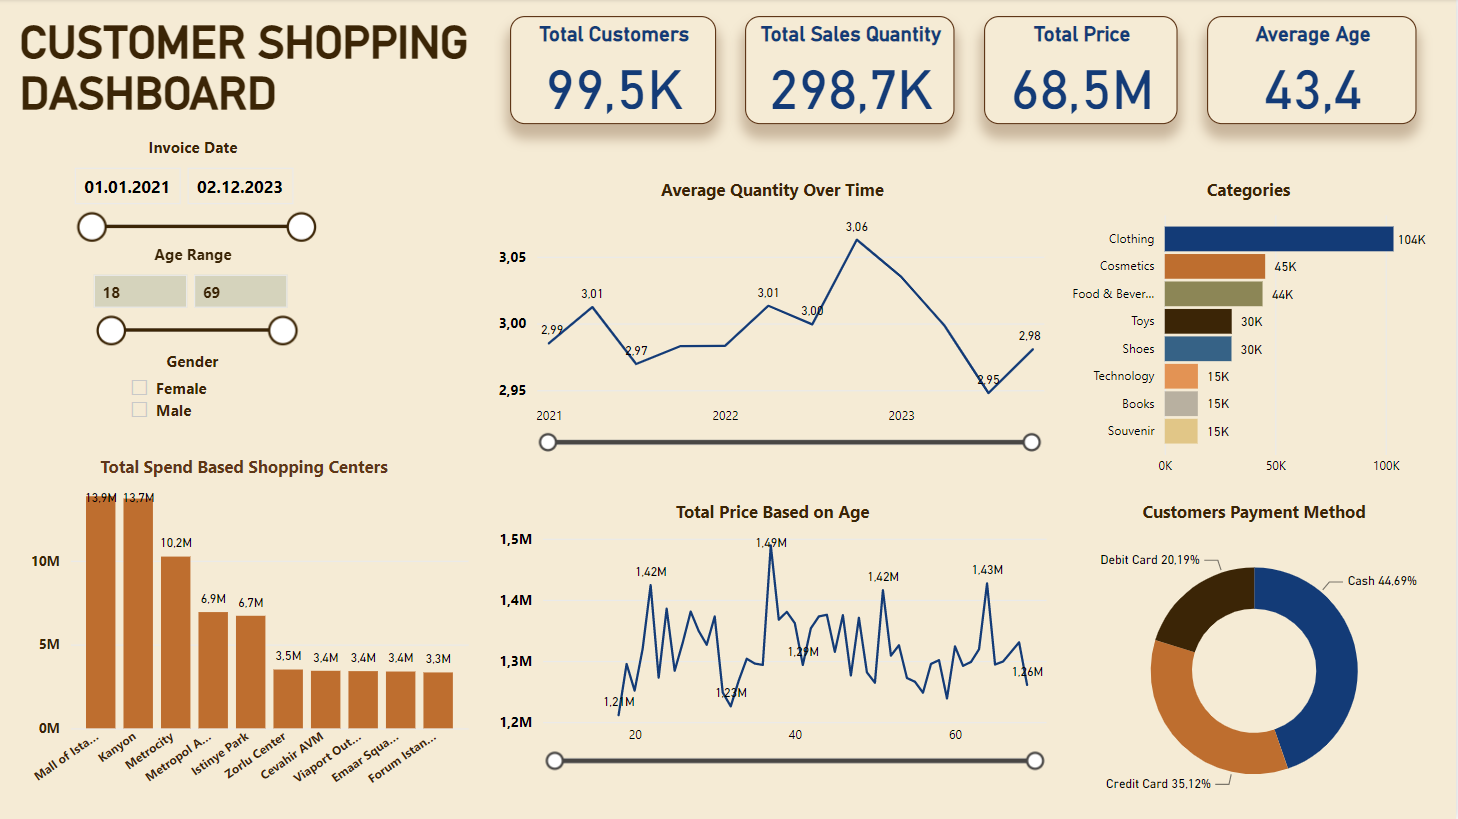

This screenshot's page, from the dashboard's own definition file:
{"tool":"powerbi","page":{"name":"1. sayfa","canvas":[1280,720],"ordinal":0},"visuals":[{"type":"clusteredBarChart","title":"Categories","fields":{"Category":["customer_shopping_data.category"],"Y":["Sum(customer_shopping_data.quantity)"]},"box":[925.5,143.1,345.1,271.3],"z":0},{"type":"columnChart","title":"Total Spend Based Shopping Centers","fields":{"Category":["customer_shopping_data.shopping_mall"],"Y":["Sum(customer_shopping_data.price)"]},"box":[14,439.9,395.1,239.7],"z":1000},{"type":"card","title":"Total Price","fields":{"Values":["Sum(customer_shopping_data.price)"]},"box":[865.8,14.9,170.3,94.8],"z":2000},{"type":"card","title":"Total Sales Quantity","fields":{"Values":["Sum(customer_shopping_data.quantity)"]},"box":[655.9,14.9,184.4,94.8],"z":3000},{"type":"slicer","title":"Invoice Date","fields":{"Values":["customer_shopping_data.invoice_date"]},"box":[72,143.1,233.6,94],"z":4000},{"type":"slicer","title":"Gender","fields":{"Values":["customer_shopping_data.gender"]},"box":[121.2,343.3,135.2,64.1],"z":5000},{"type":"lineChart","title":"Average Quantity Over Time","fields":{"Y":["Avg(customer_shopping_data.quantity)"],"Category":["customer_shopping_data.invoice_date.Varyasyon.Tarih Hiyerarşisi.Yıl","customer_shopping_data.invoice_date.Varyasyon.Tarih Hiyerarşisi.Çeyrek","customer_shopping_data.invoice_date.Varyasyon.Tarih Hiyerarşisi.Ay","customer_shopping_data.invoice_date.Varyasyon.Tarih Hiyerarşisi.Gün"]},"box":[434.6,143.1,490.8,243.2],"z":6000},{"type":"card","title":"Total Customers","fields":{"Values":["CountNonNull(customer_shopping_data.customer_id)"]},"box":[449.6,14.9,180.9,94.8],"z":7000},{"type":"donutChart","title":"Customers Payment Method","fields":{"Category":["customer_shopping_data.payment_method"],"Y":["Count(customer_shopping_data.customer_id)"]},"box":[925.5,439.9,344.2,261.7],"z":8000},{"type":"card","title":"Average Age","fields":{"Values":["Avg(customer_shopping_data.age)"]},"box":[1061.6,14.9,184.4,94.8],"z":9000},{"type":"lineChart","title":"Total Price Based on Age","fields":{"Category":["customer_shopping_data.age"],"Y":["Sum(customer_shopping_data.price)"]},"box":[426.7,439.9,490.8,239.7],"z":10000},{"type":"textbox","title":"CUSTOMER SHOPPING DASHBOARD","box":[14,14.9,428.5,94.8],"z":11000},{"type":"slicer","title":"Age Range","fields":{"Values":["customer_shopping_data.age"]},"box":[88.7,243.2,200.2,94],"z":12000}]}

Visuals, with their boxes in screenshot pixels (x1, y1, x2, y2), scaled from the page's 1280x720 canvas onto the 1458x819 screenshot:
"Categories" clusteredBarChart: l=1054, t=163, r=1447, b=471
"Total Spend Based Shopping Centers" columnChart: l=16, t=500, r=466, b=773
"Total Price" card: l=986, t=17, r=1180, b=125
"Total Sales Quantity" card: l=747, t=17, r=957, b=125
"Invoice Date" slicer: l=82, t=163, r=348, b=270
"Gender" slicer: l=138, t=391, r=292, b=463
"Average Quantity Over Time" lineChart: l=495, t=163, r=1054, b=439
"Total Customers" card: l=512, t=17, r=718, b=125
"Customers Payment Method" donutChart: l=1054, t=500, r=1446, b=798
"Average Age" card: l=1209, t=17, r=1419, b=125
"Total Price Based on Age" lineChart: l=486, t=500, r=1045, b=773
"CUSTOMER SHOPPING DASHBOARD" textbox: l=16, t=17, r=504, b=125
"Age Range" slicer: l=101, t=277, r=329, b=384
